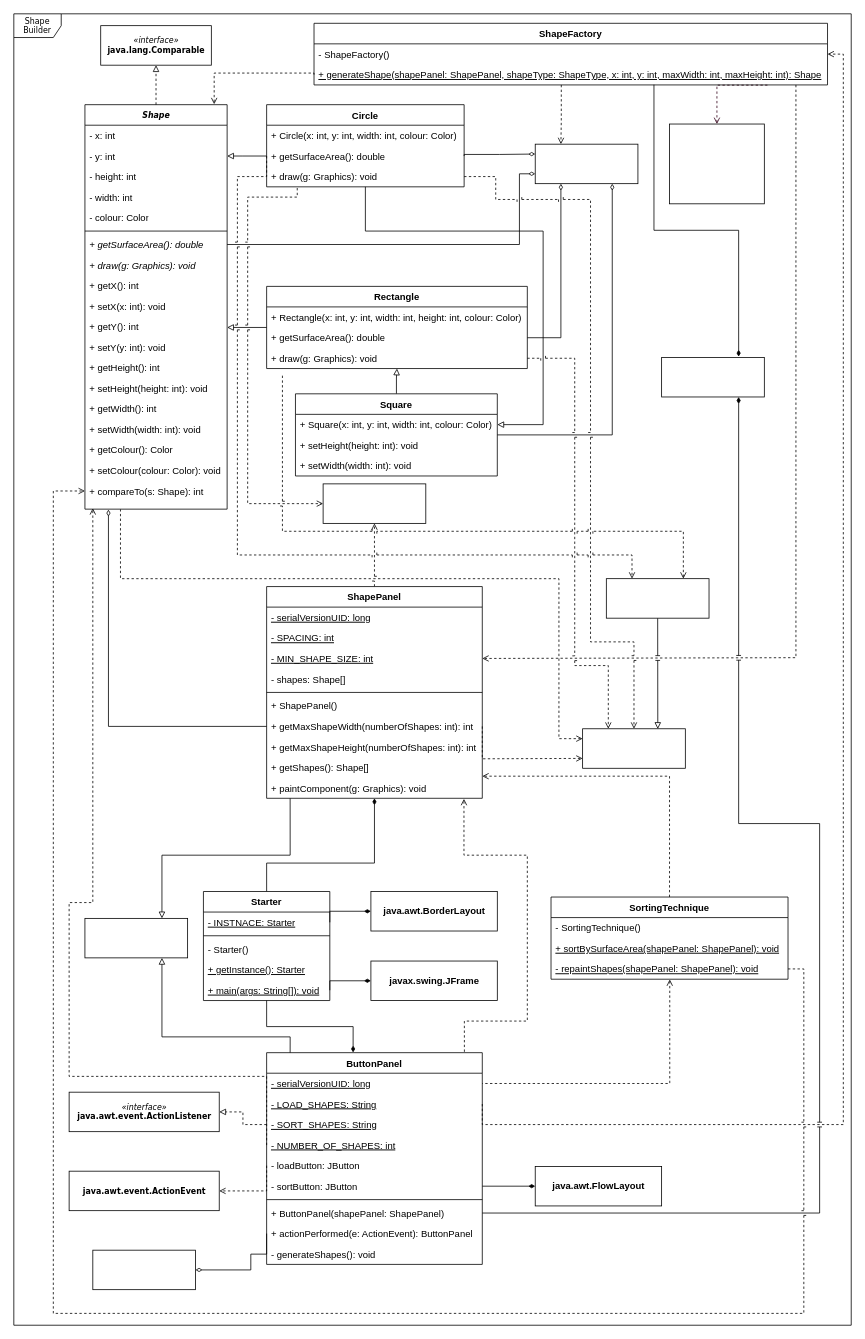
This 865x1339 diagram has some shape labels left out. Here are the shapes that lost their labels. From the top down, the centre of each, then its label:
At (x=586, y=163): "java.awt.Color".
At (x=716, y=163): "<<enumeration>> ShapeType CIRCLE RECTANGLE SQUARE".
At (x=712, y=377): "java.util.Random".
At (x=374, y=503): "java.lang.Math".
At (x=657, y=598): "java.awt.Graphics2D".
At (x=633, y=748): "java.awt.Graphics".
At (x=136, y=938): "javax.swing.JPanel".
At (x=144, y=1269): "javax.swing.JButton".
